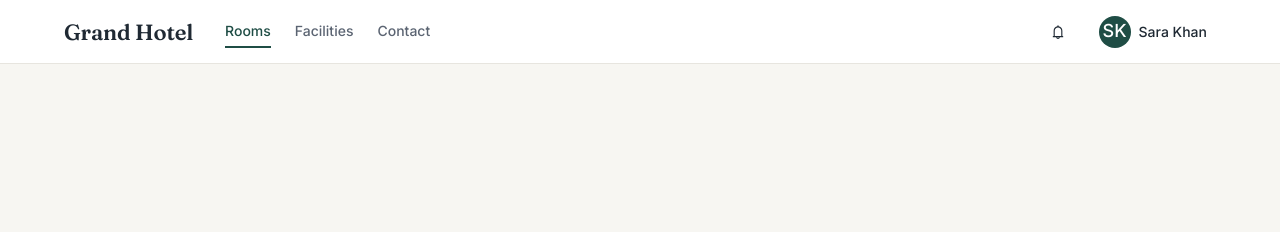
Scenario: PublicHeader logout › calls logout API, clears Redux user, clears query cache, and redirects home
Later steps or results of the test are not shown.
Click the button with aria-label "Account menu".
click(1153, 32)  # box [1090, 10, 1216, 52]
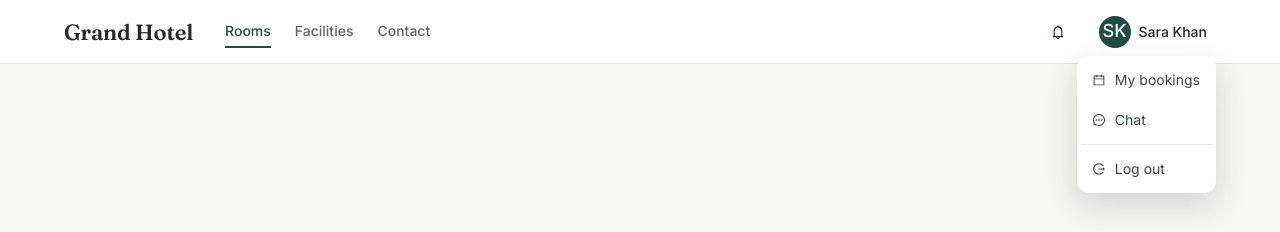
Check: the text "Log out" is shown, box [1115, 160, 1165, 177]
